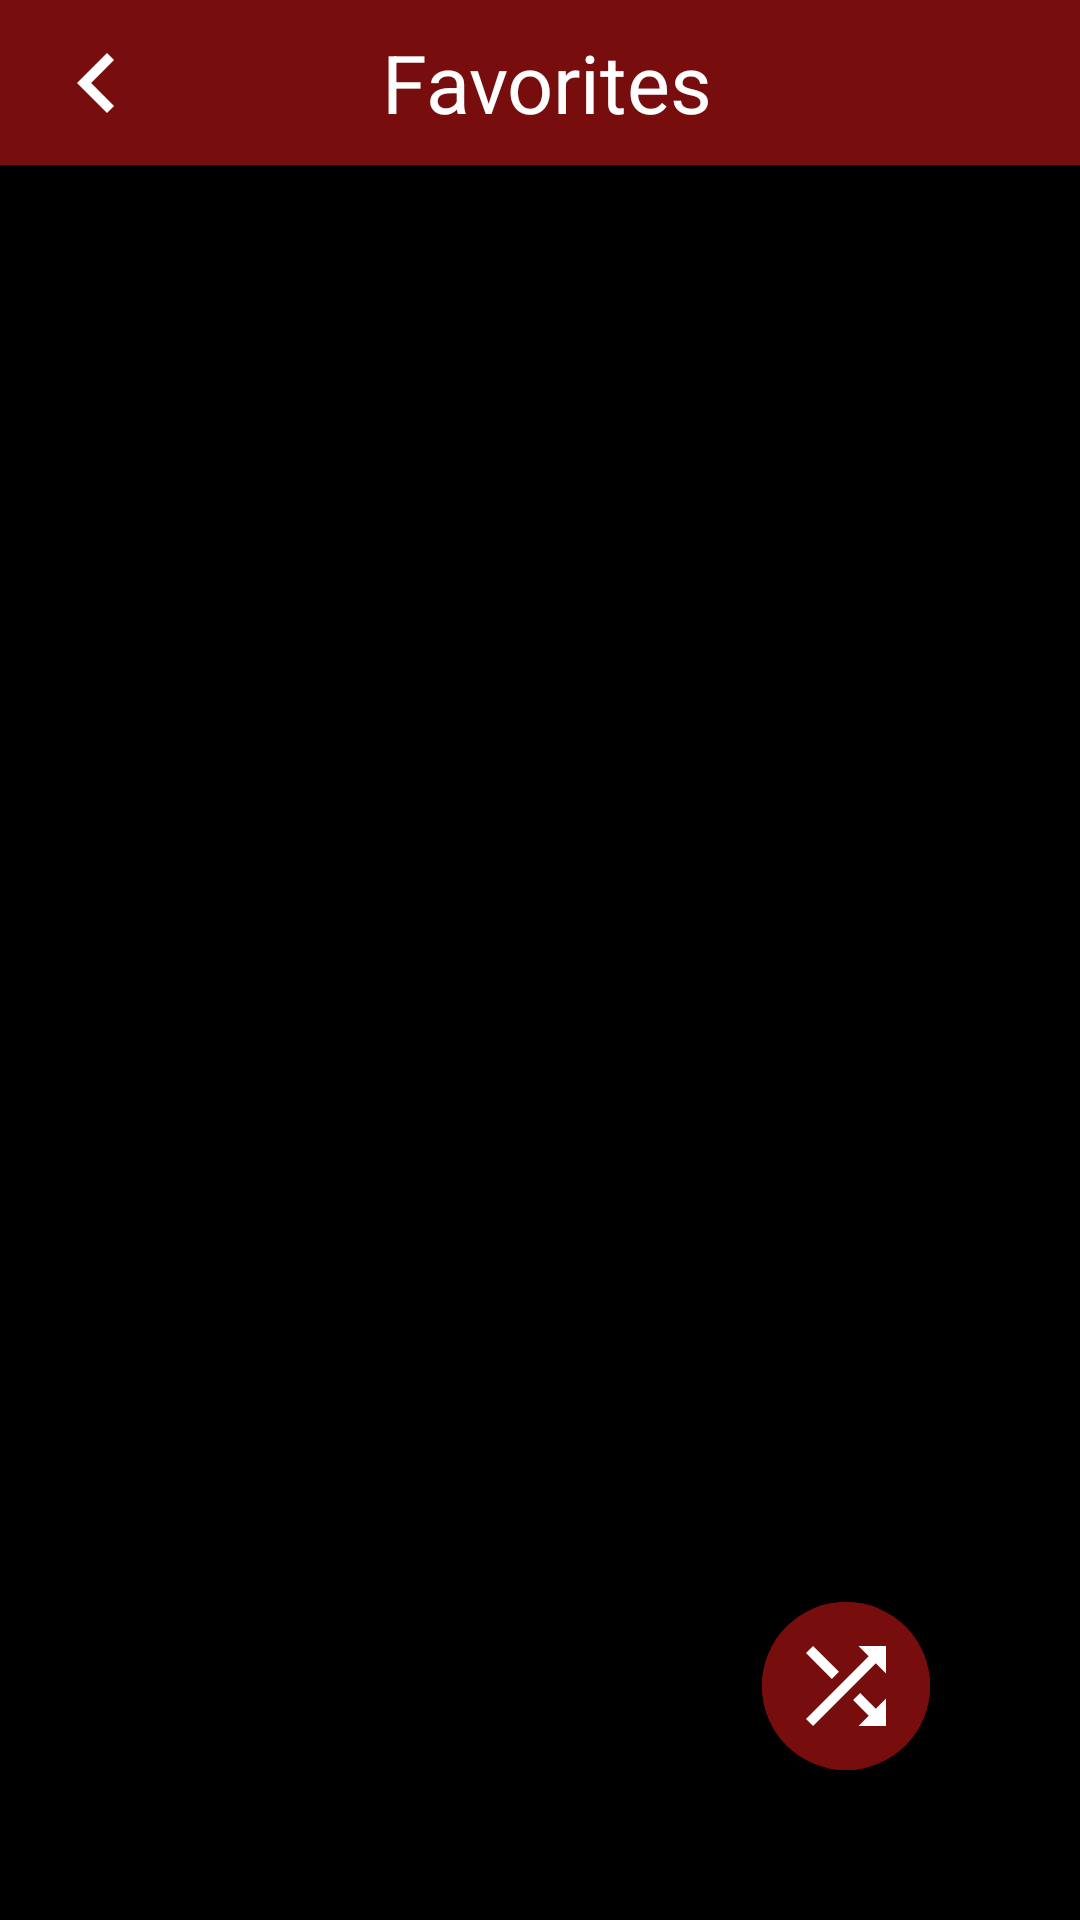

Icons on this 1080 x 1920 Android screen, each with the point to tap as [x,y]:
shuffle: [846,1686]
